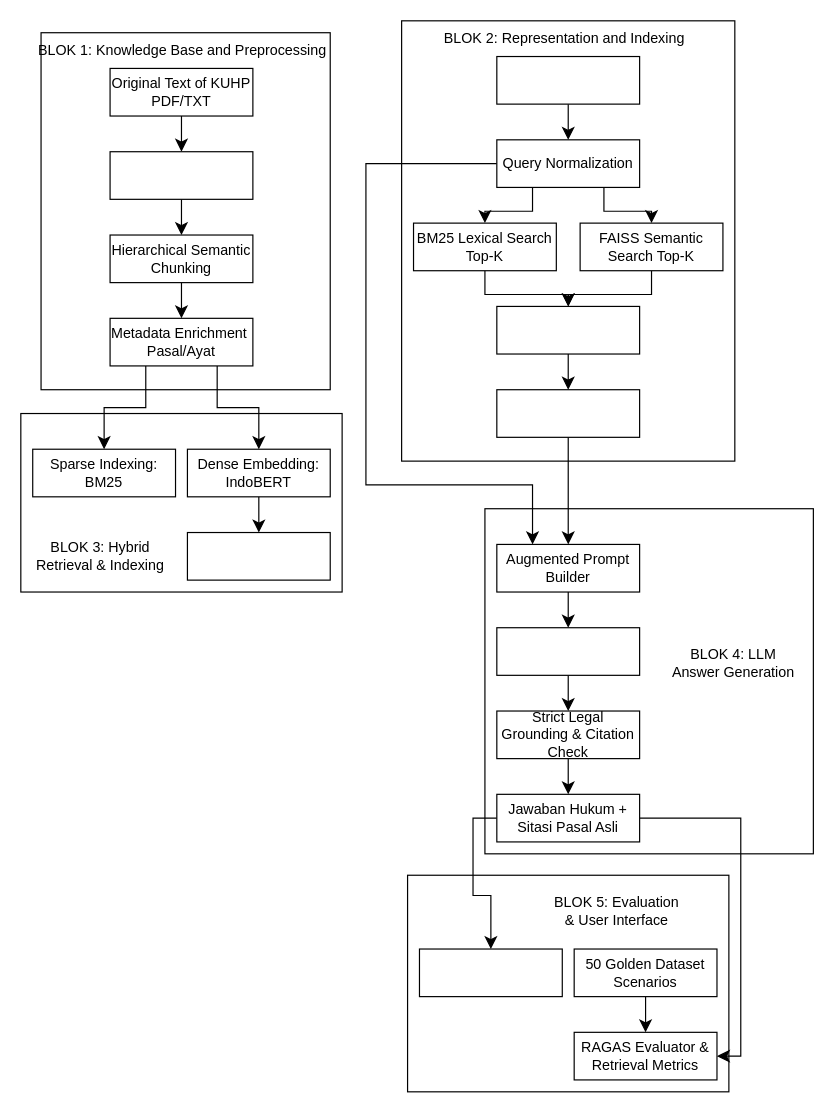
Some shapes in this 834 by 1113 pixel diagram are drawn without their labels. Here are the shapes that lost their labels. From the top down, the centre of each, then its label:
At (x=568, y=79): "User Legal Case Inquiry".
At (x=181, y=175): "Document Cleaning & Regex Sanitation".
At (x=568, y=329): "Reciprocal Rank Fusion k=60".
At (x=568, y=413): "Top-K Re-ranked Legal Chunks".
At (x=258, y=555): "VectorDB: FAISS IndexFlatIP".
At (x=568, y=651): "LLM Llama-3 8B / Model Generatif".
At (x=490, y=972): "UI User Streamlit / Web".
